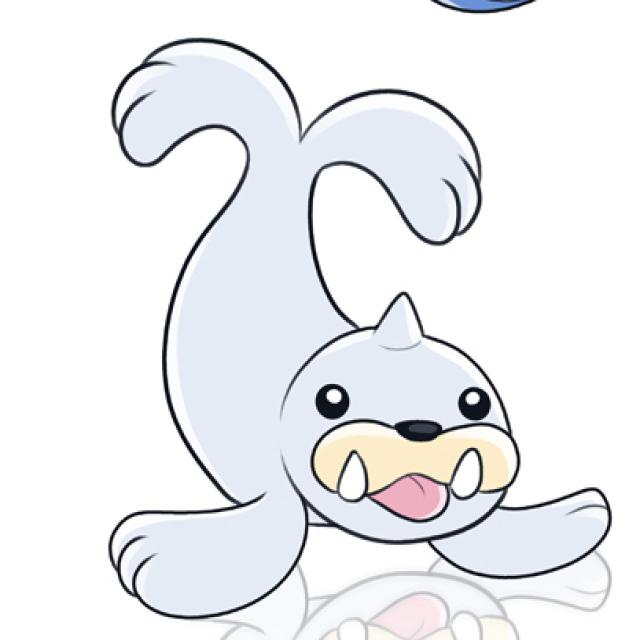Seel: (110, 47, 540, 571)
